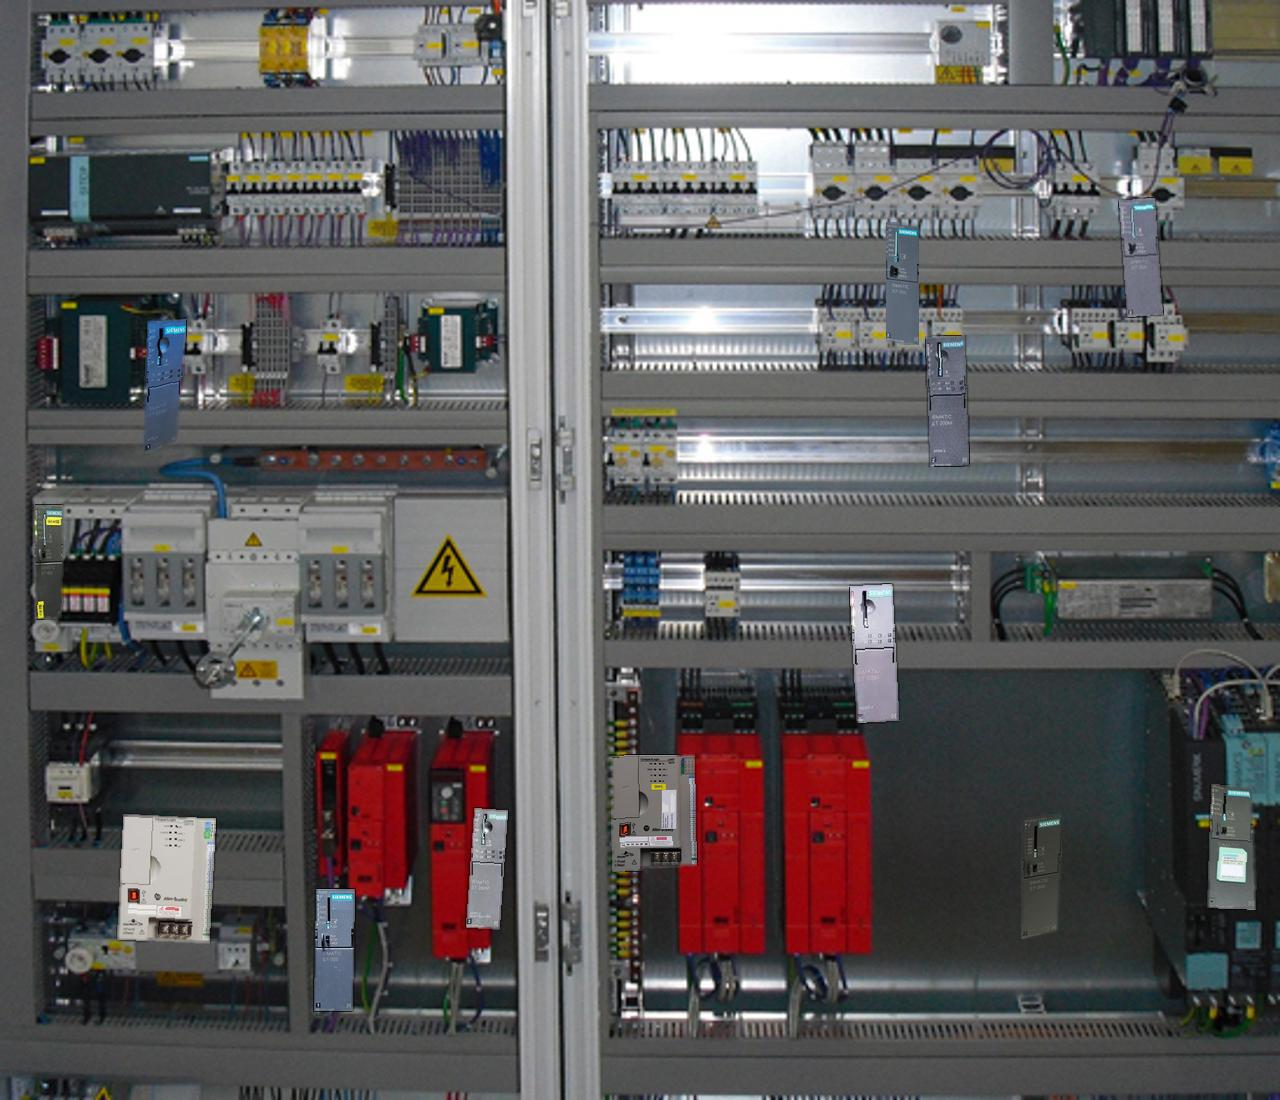AllenBradley: (118, 815, 216, 941), (612, 755, 696, 872)
Siemens: (1208, 784, 1255, 909), (1119, 198, 1162, 316), (1021, 814, 1061, 938), (313, 889, 354, 1010), (886, 222, 918, 344), (34, 504, 62, 618)
